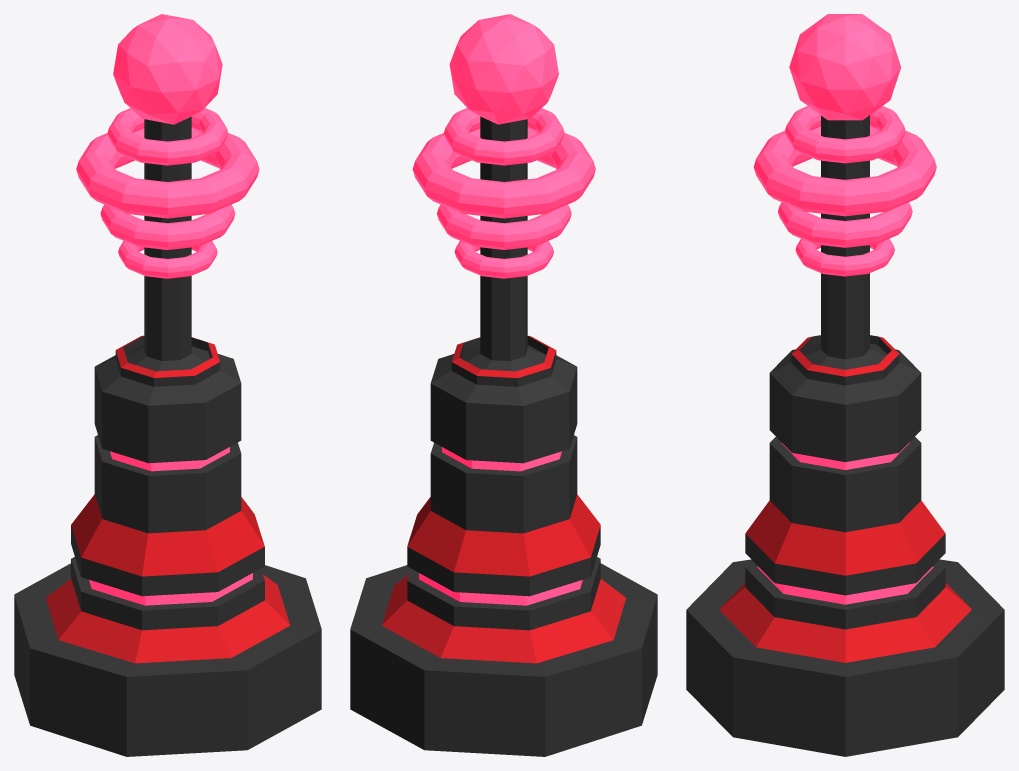
File: TurretTeslacoil.fbx
3 views of the same model, side by side, from view 1: azimuth 30°, elevation 25°; view 2: azimuth 150°, elevation 25°; view 3: azimuth 270°, elevation 25° (orthographic).
Parts seen in each view (by area): view 1: TeslaCoil; view 2: TeslaCoil; view 3: TeslaCoil.
Boxes of the visible parts, bbox=[...] form: TeslaCoil: bbox=[14, 14, 321, 756]; TeslaCoil: bbox=[350, 14, 657, 756]; TeslaCoil: bbox=[686, 14, 1004, 756].
Bounding box in the file's own units: 658 × 1537 × 658.
